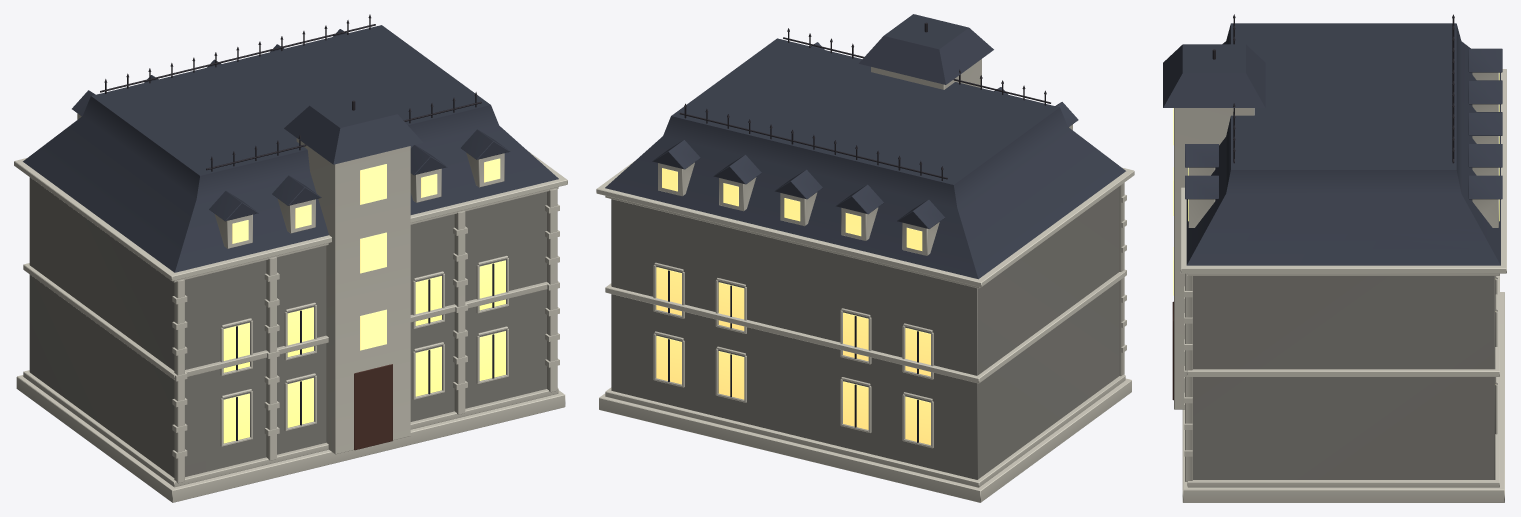
The model's file is env_mansion_a.glb.
3 renders of one model, left to right at view 1: azimuth 30°, elevation 25°; view 2: azimuth 150°, elevation 25°; view 3: azimuth 270°, elevation 25°, orthographic. The views are drawn at different scales.
Parts seen in each view (by area): view 1: env_mansion_a, windows; view 2: env_mansion_a, windows; view 3: env_mansion_a.
Boxes of the visible parts, x1,y1,x2,y2 form: env_mansion_a: (14, 14, 567, 502); windows: (223, 164, 505, 443); env_mansion_a: (596, 14, 1134, 502); windows: (656, 267, 930, 445); env_mansion_a: (1163, 14, 1506, 502).
Size of the model in its own units: 9.68 by 8 by 7.04.
